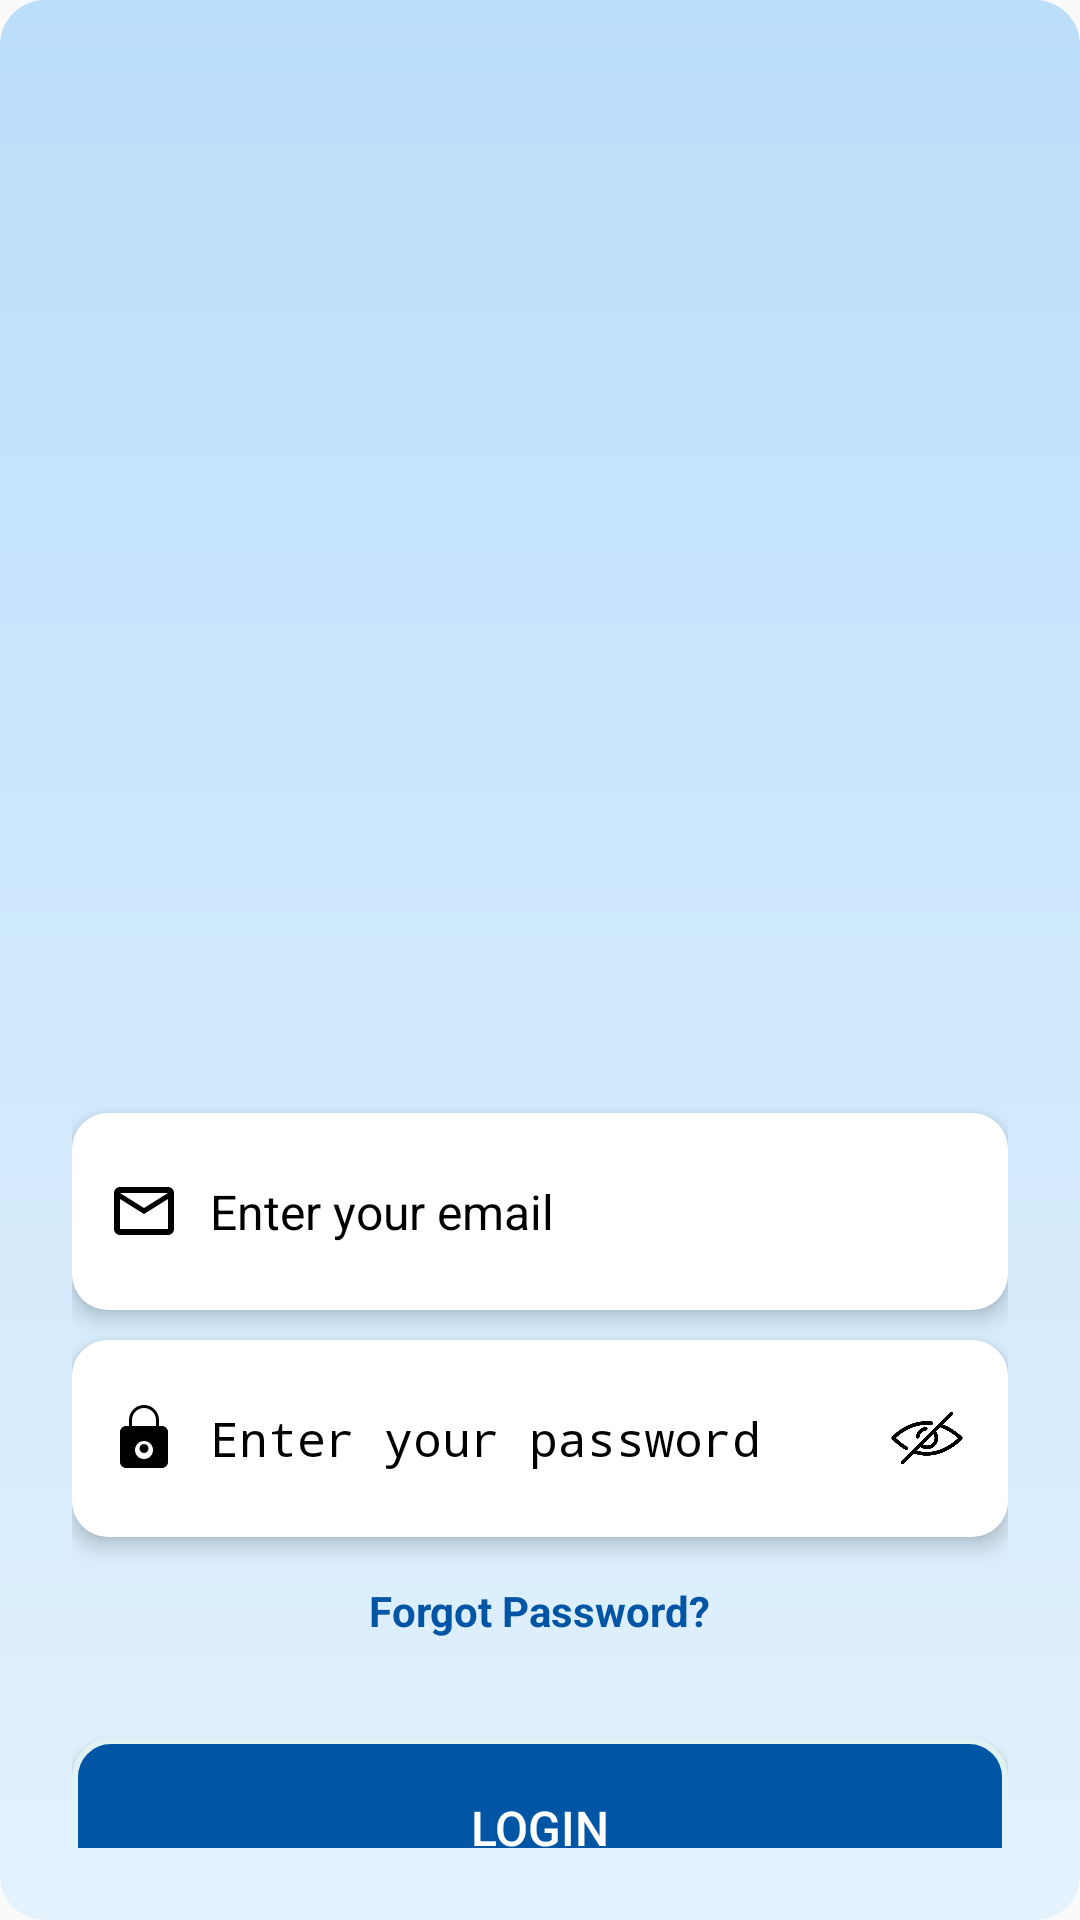

Locate icon controls on the screen. Image size 1080w x 1920h, boxes as (x1, y1, x2, y2).
eye closed: (891, 1412, 963, 1464)
lock: (120, 1405, 168, 1468)
